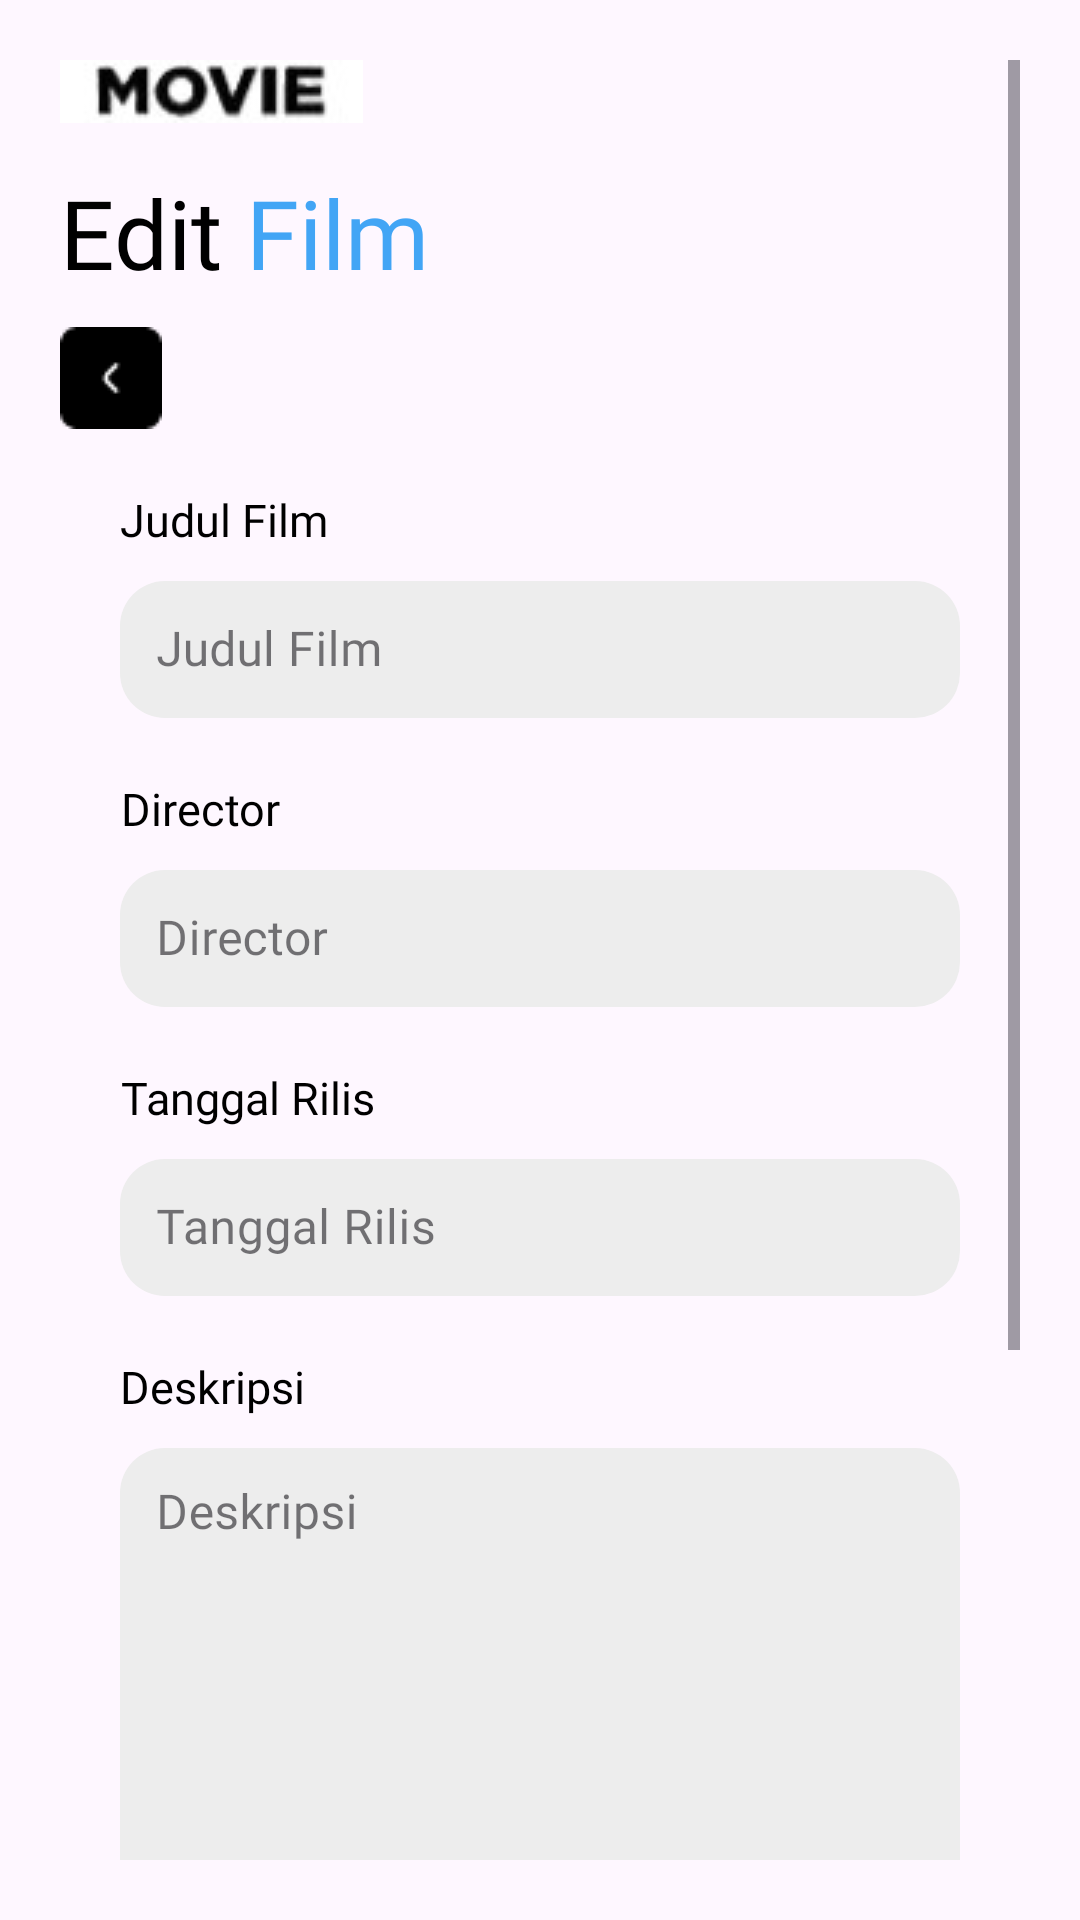

Named icons in this screenshot (1080x1920) and their centers, (x=x, y=y):
Back: (x=111, y=378)
